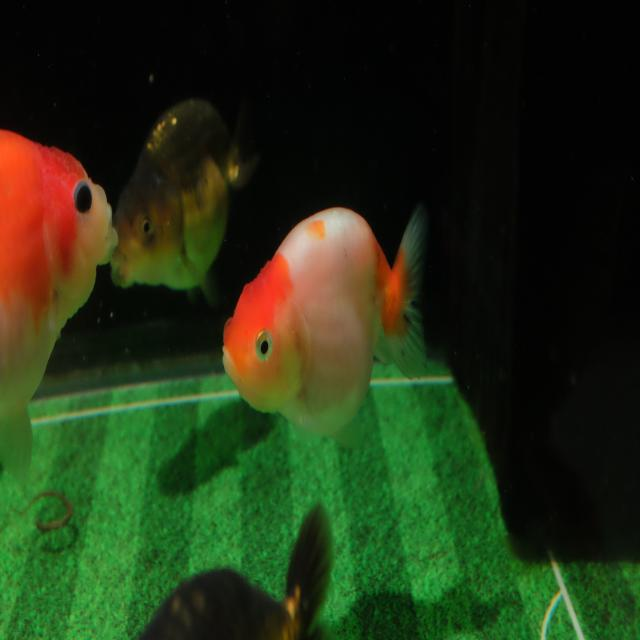Goldfish: (219, 200, 432, 455), (0, 126, 122, 484), (107, 93, 259, 314)
